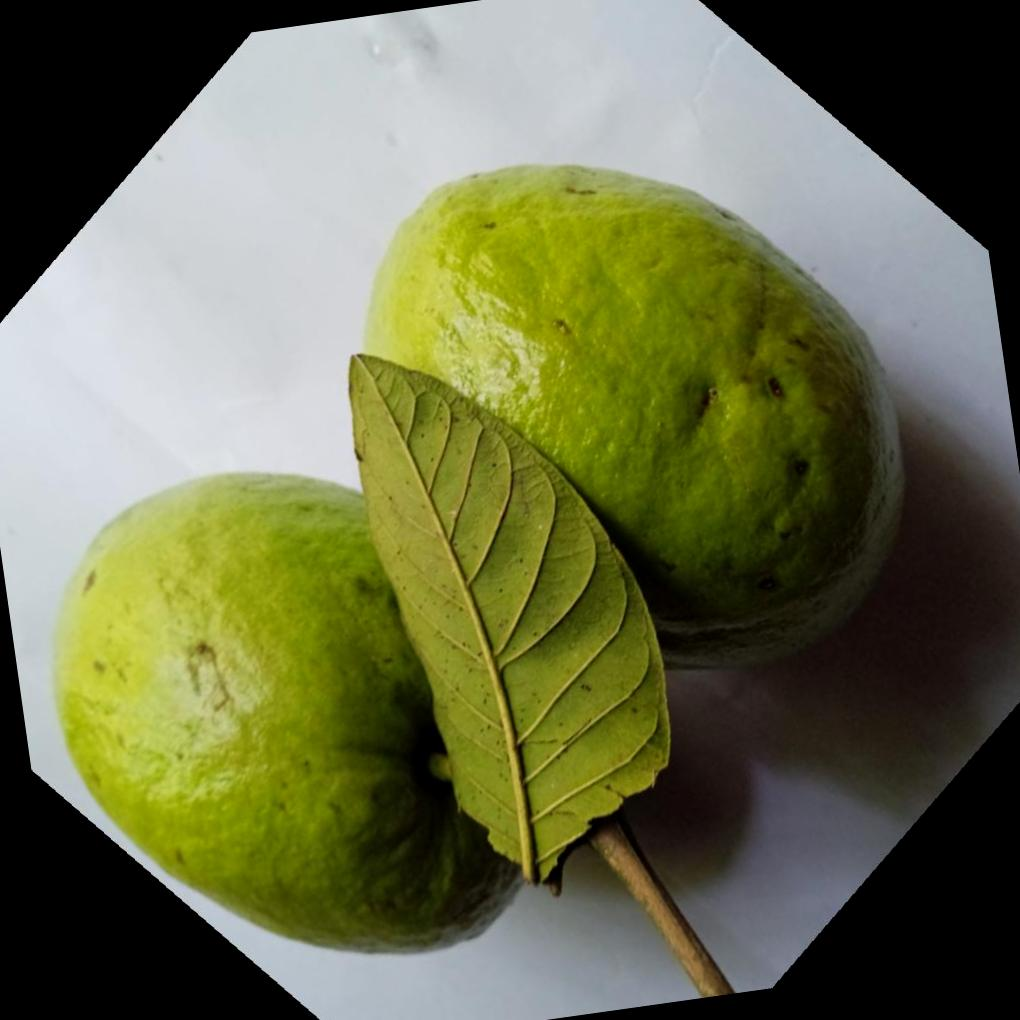FreshGuava: (365, 162, 909, 671), (51, 469, 529, 957)
